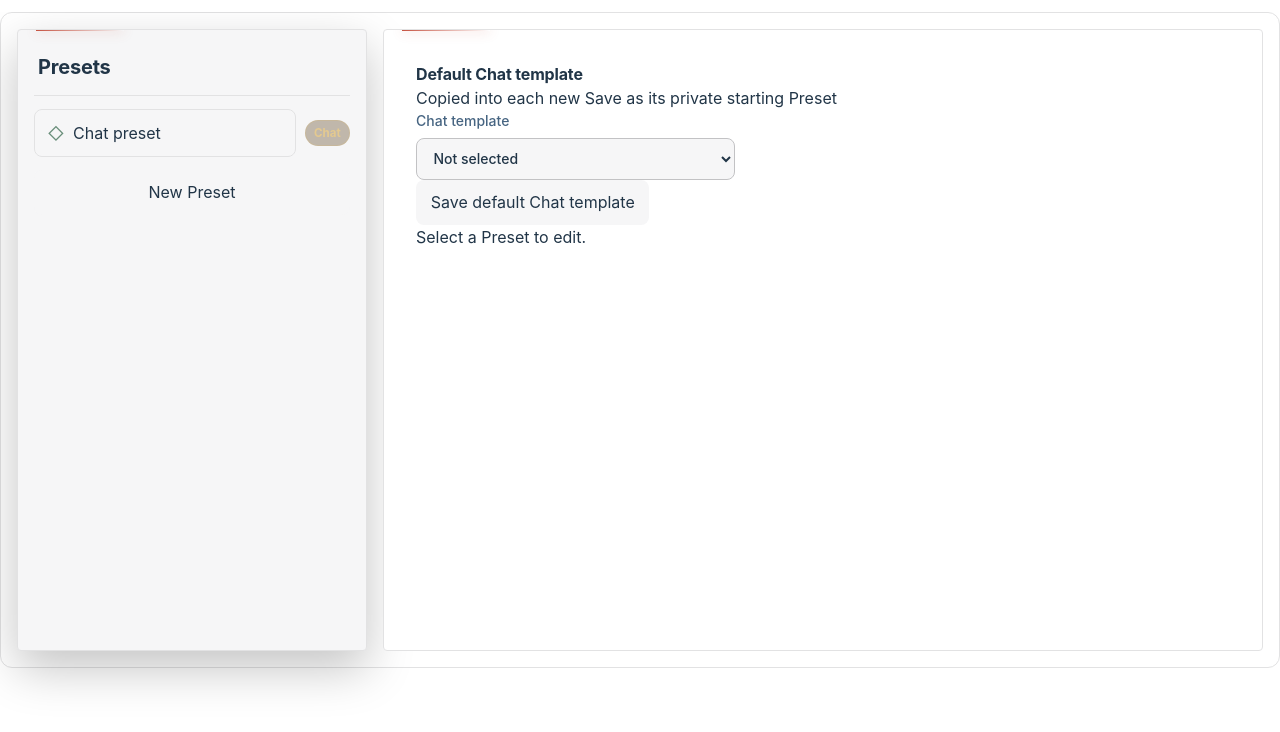
Test: PresetManagerPage › announces invalid typed Chat prompt fields instead of silently blocking submit
Step 1. Click the button with aria-label "Edit preset Chat preset" → [117, 133], box [34, 109, 296, 157]
(page scrolled)
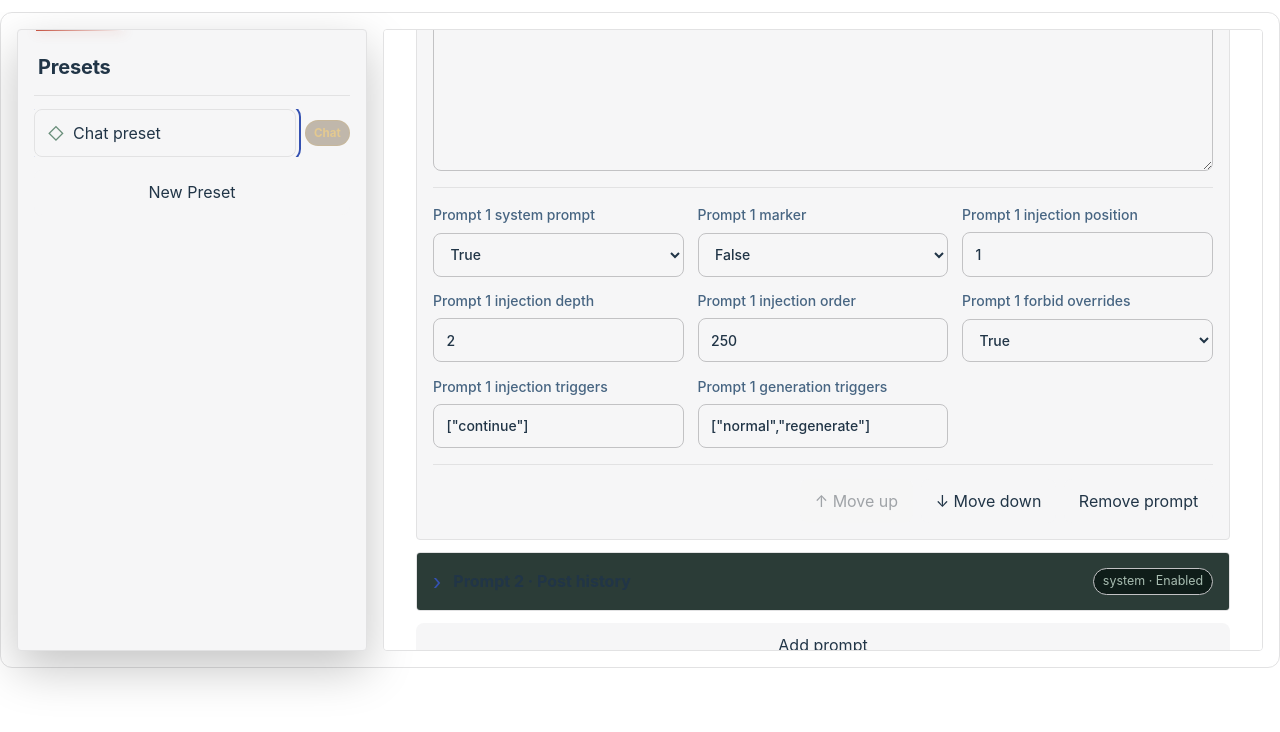
Step 2. Replace the text in the field labelled "Prompt 1 injection depth" with "hot" → [558, 340], box [433, 318, 684, 362]
(page scrolled)
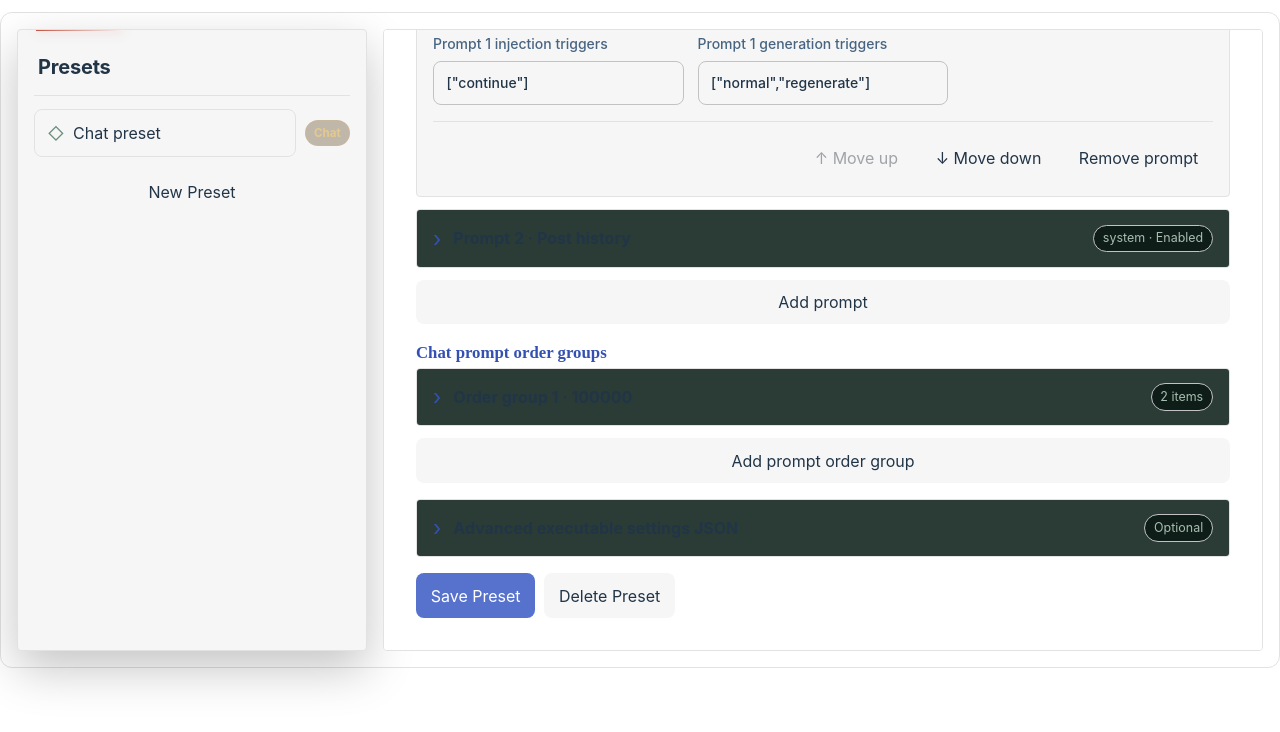
Step 3. Click the button "Save Preset" → [476, 596], box [416, 573, 535, 618]
(page scrolled)
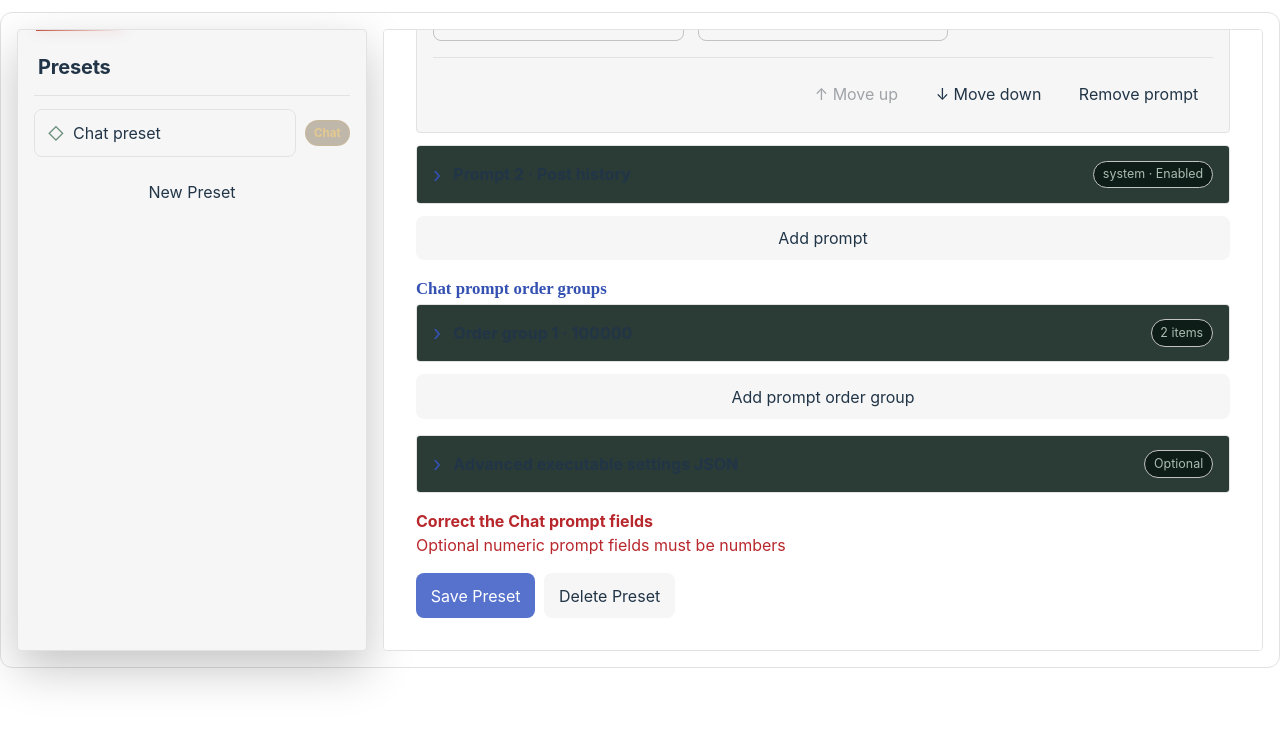
Check: the message shows "Optional numeric prompt fields must be numbers", box [416, 535, 786, 555]
